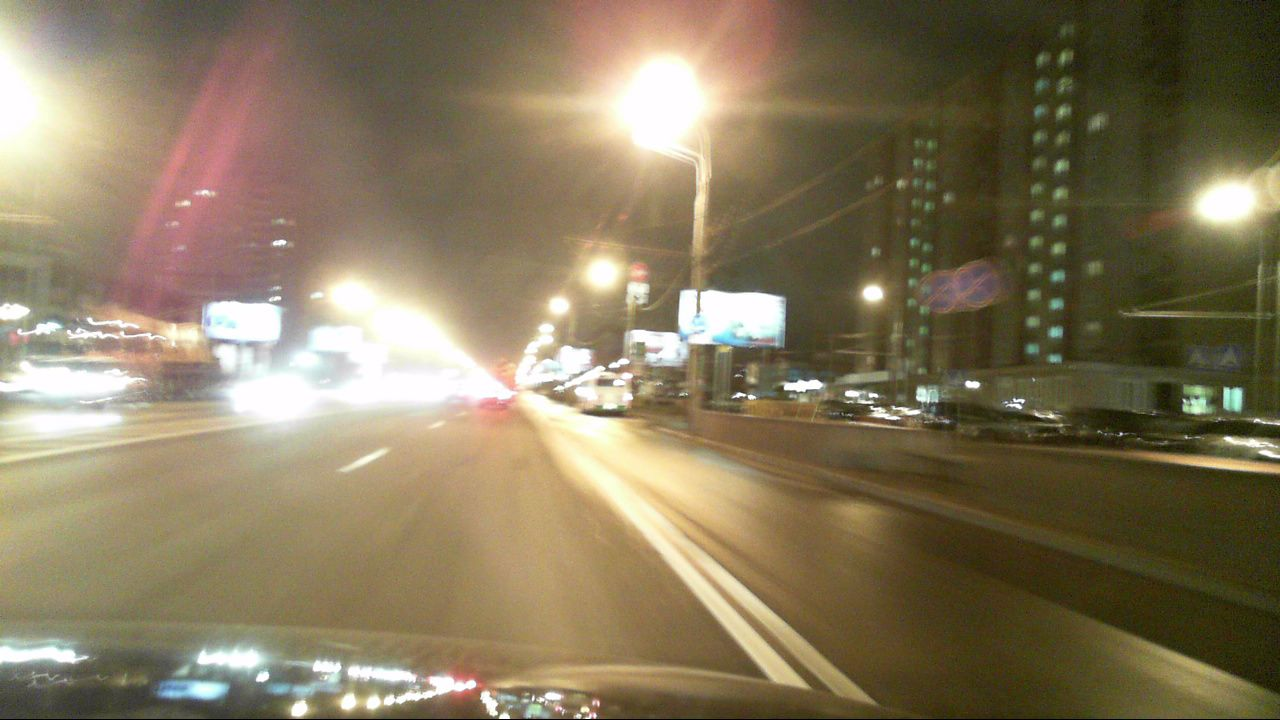No Parking: (954, 262, 998, 308)
